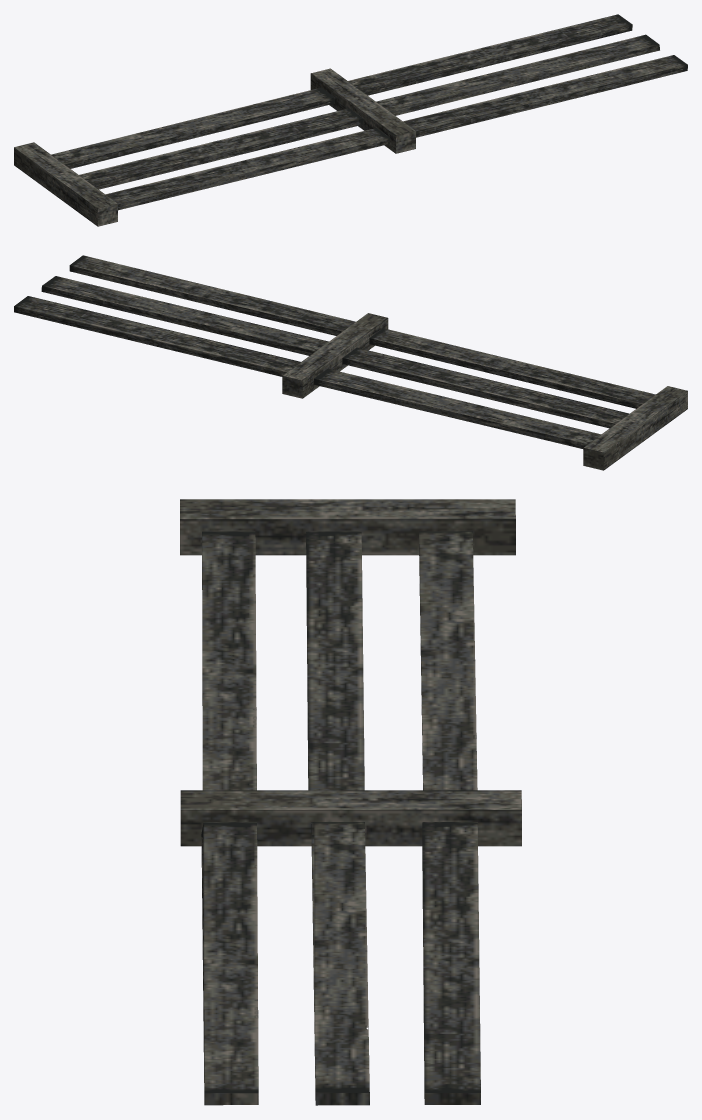
The model's file is SM_EC_Fence_00.fbx.
3 views of the same model, one above another, from view 1: azimuth 30°, elevation 25°; view 2: azimuth 150°, elevation 25°; view 3: azimuth 270°, elevation 25° (orthographic). The views are drawn at different scales.
Parts seen in each view (by area): view 1: SM_EC_Fence_00; view 2: SM_EC_Fence_00; view 3: SM_EC_Fence_00.
Boxes of the visible parts, <box> form: SM_EC_Fence_00: <box>14,14,687,226</box>; SM_EC_Fence_00: <box>14,255,687,470</box>; SM_EC_Fence_00: <box>180,499,521,1105</box>.
Size of the model in its own units: 6.9 by 1.71 by 0.2.
